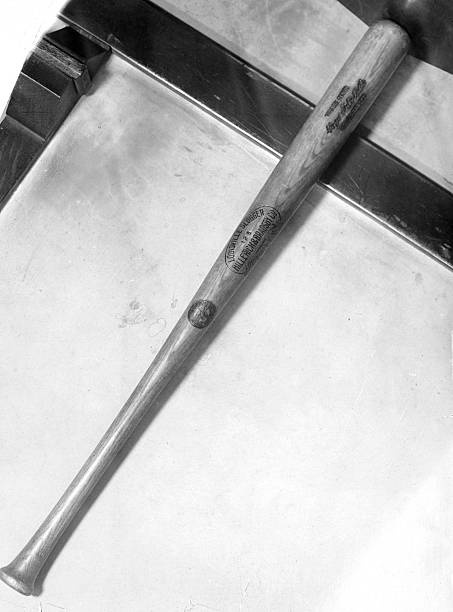bita: (2, 19, 407, 599)
